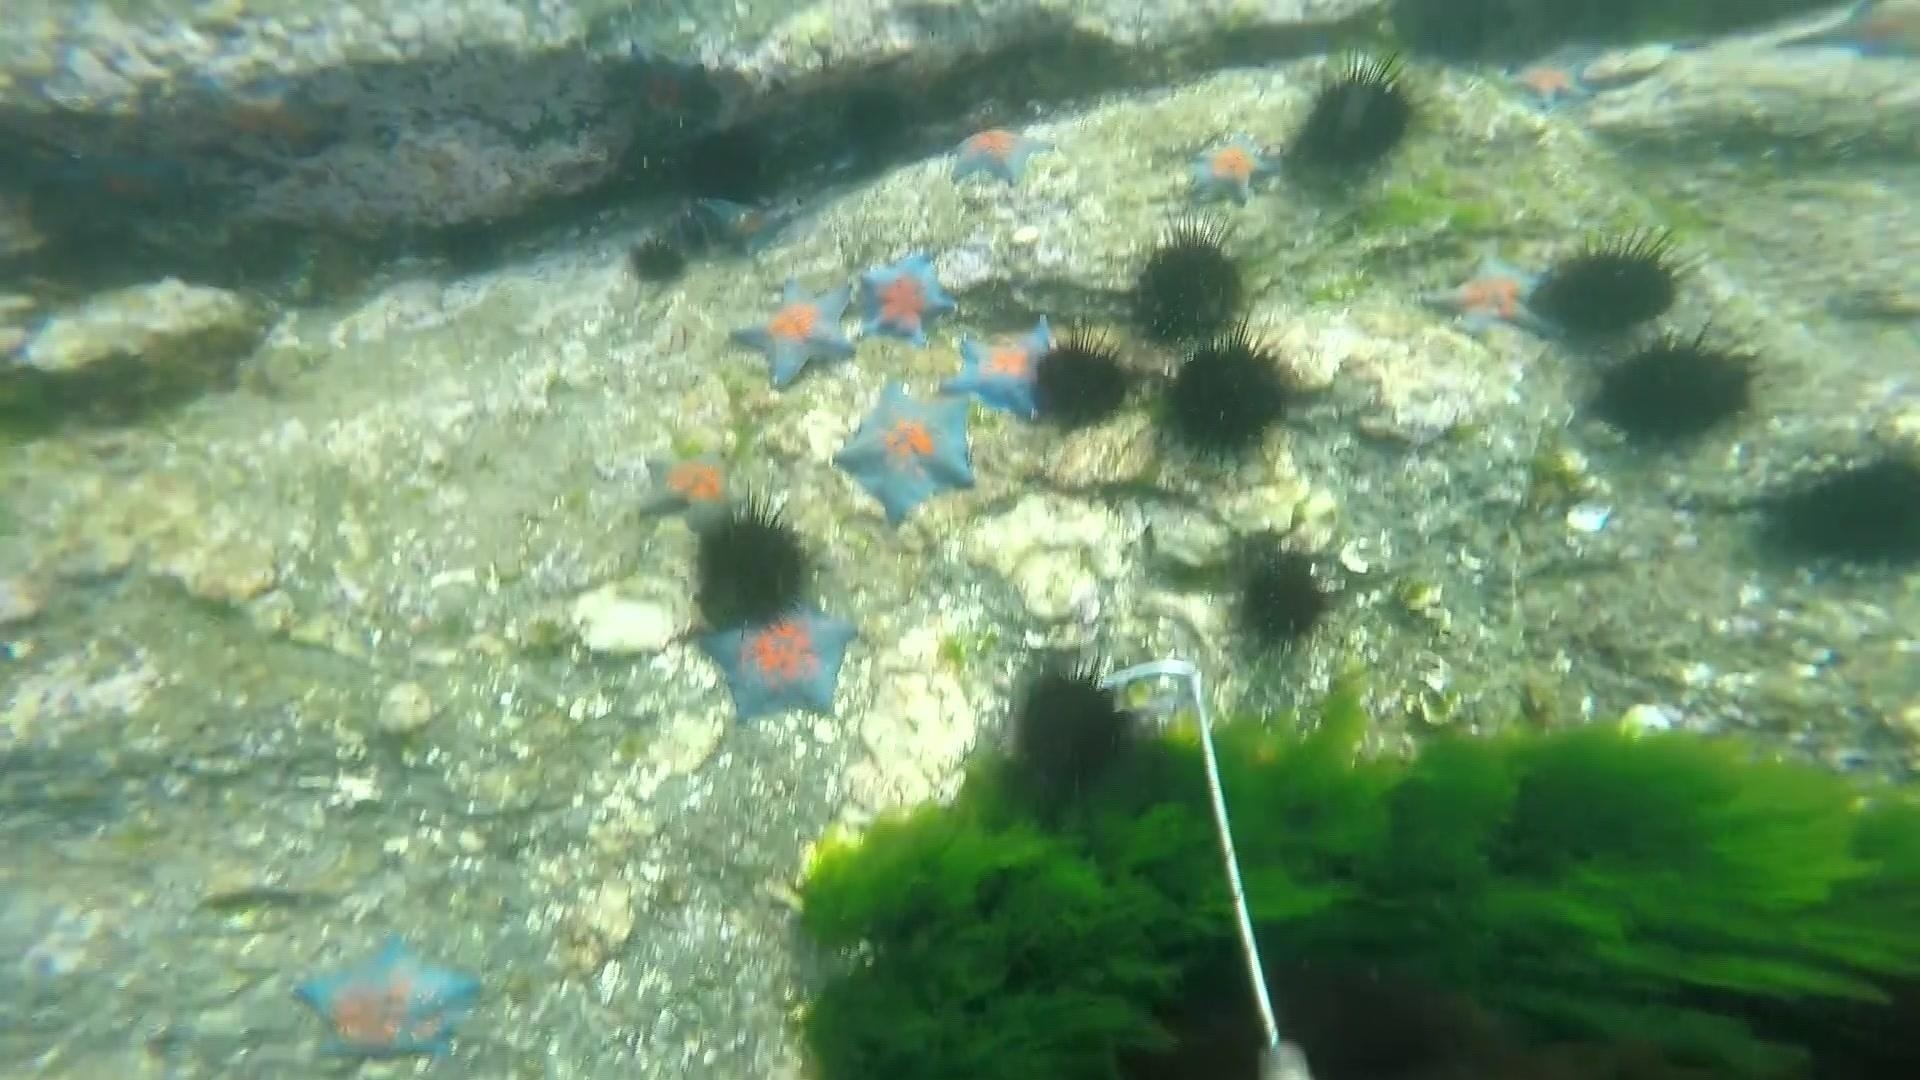echinus: (1755, 440, 1919, 582), (1590, 327, 1760, 454), (1154, 327, 1300, 468), (1532, 229, 1691, 345), (1005, 657, 1137, 795), (1287, 51, 1425, 182), (1122, 222, 1255, 351), (688, 498, 818, 626), (1226, 543, 1338, 655), (1027, 327, 1138, 436), (1377, 3, 1524, 75), (676, 124, 774, 208), (833, 78, 916, 160), (621, 229, 694, 291)
starfish: (287, 928, 485, 1068), (694, 597, 862, 728), (833, 380, 982, 526), (169, 65, 351, 173), (727, 272, 862, 392), (1418, 240, 1556, 353), (50, 132, 195, 237), (944, 309, 1065, 425), (607, 38, 736, 142), (632, 430, 750, 541), (847, 243, 960, 349), (940, 116, 1056, 193), (1178, 127, 1282, 211), (1795, 3, 1920, 73), (1497, 47, 1605, 116), (695, 190, 796, 260)
